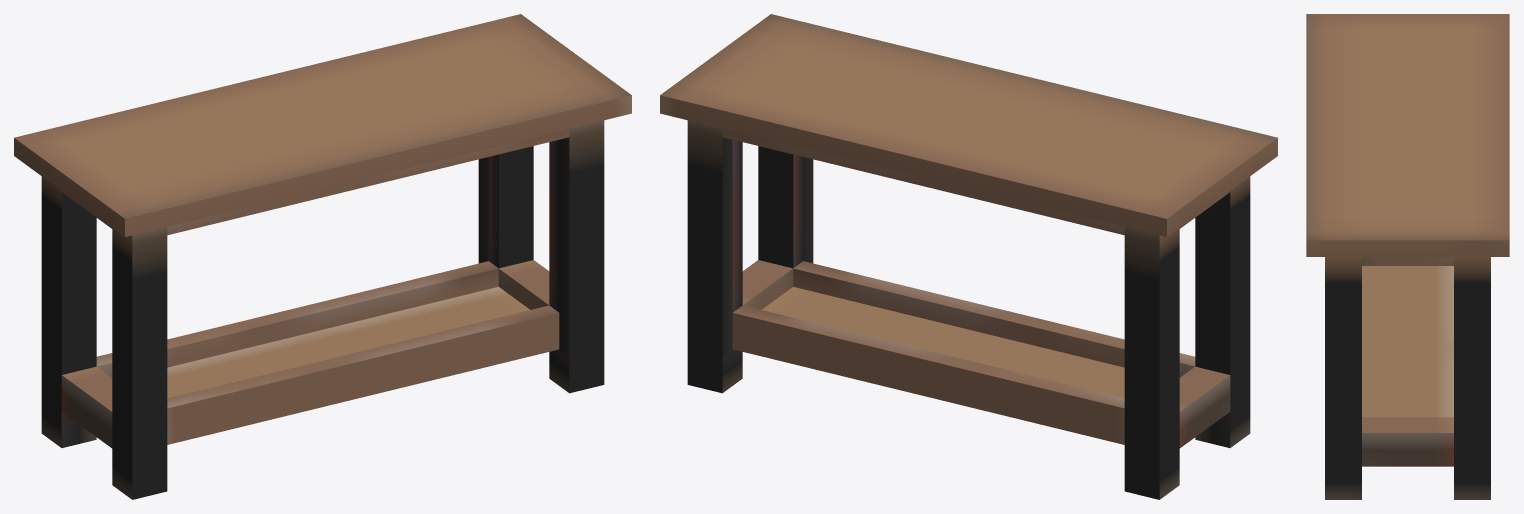
File: TableBrownTall_01.obj
The picture shows the model from 3 angles, left to right: view 1: azimuth 30°, elevation 25°; view 2: azimuth 150°, elevation 25°; view 3: azimuth 270°, elevation 25°; orthographic projection. The views are drawn at different scales.
Parts seen in each view (by area): view 1: TableBrownTall_01; view 2: TableBrownTall_01; view 3: TableBrownTall_01.
Boxes of the visible parts, left/top/right/bottom form: TableBrownTall_01: left=14, top=14, right=631, bottom=499; TableBrownTall_01: left=660, top=14, right=1277, bottom=499; TableBrownTall_01: left=1306, top=14, right=1509, bottom=499.
Size of the model in its own units: 1.45 by 0.8 by 0.55.
